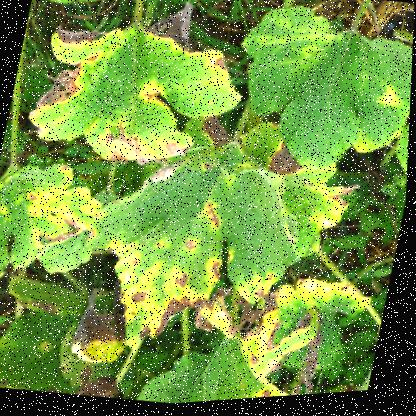Anthracnose: (148, 291, 214, 351), (197, 192, 237, 239), (198, 251, 232, 294), (124, 281, 159, 314), (179, 230, 204, 262), (170, 269, 198, 295)
